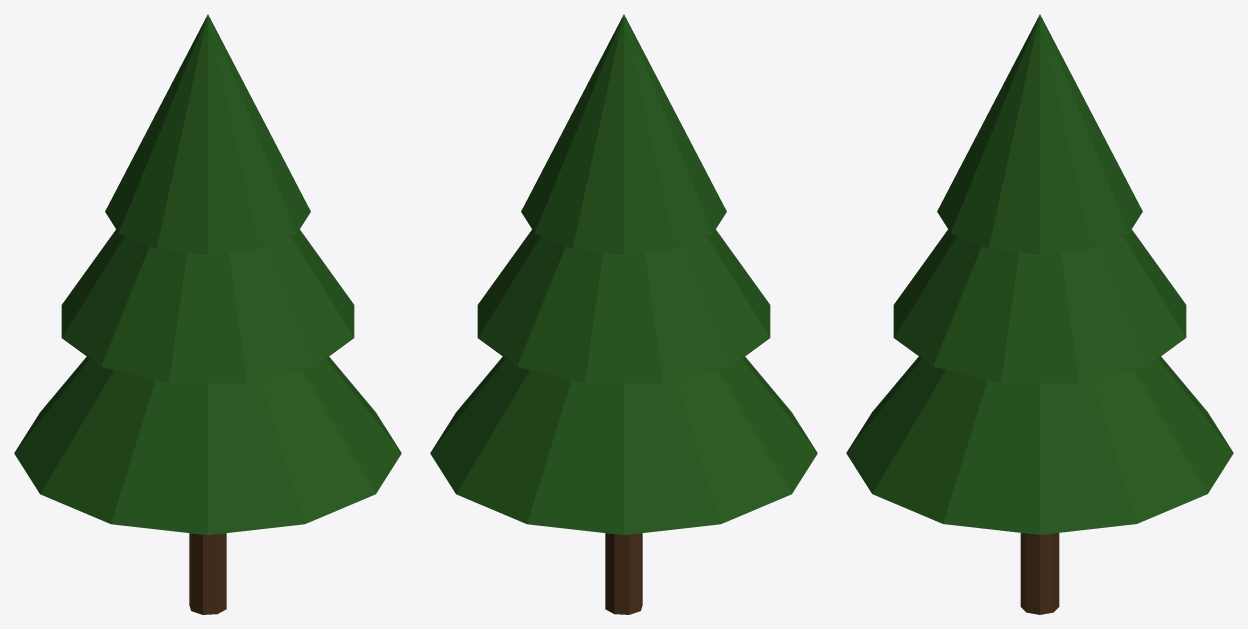
Rendered from tree_lod0.glb.
3 views of the same model, side by side, from view 1: azimuth 30°, elevation 25°; view 2: azimuth 150°, elevation 25°; view 3: azimuth 270°, elevation 25° (orthographic).
Visible parts, largest first — view 1: placeholder; view 2: placeholder; view 3: placeholder.
Part boxes in pixels (bbox=[...]): placeholder: bbox=[14, 14, 401, 614]; placeholder: bbox=[430, 14, 817, 614]; placeholder: bbox=[846, 14, 1233, 614].
Size of the model in its own units: 3.2 by 5.4 by 3.2.
